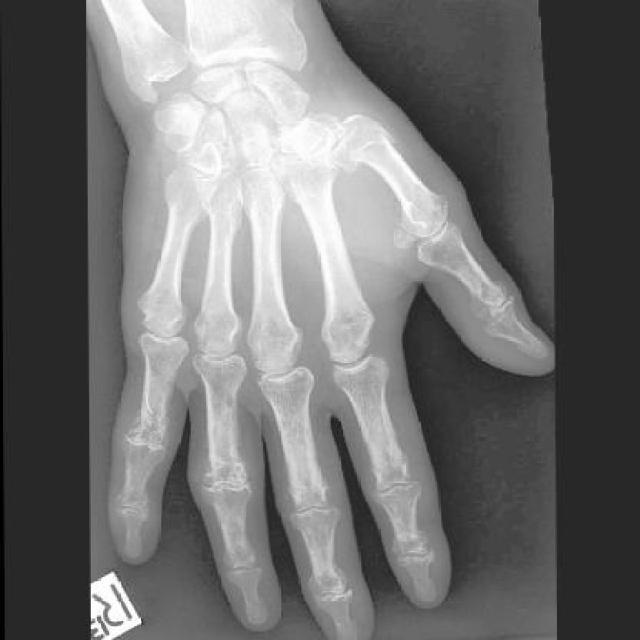Fracture: (342, 125, 398, 176)
